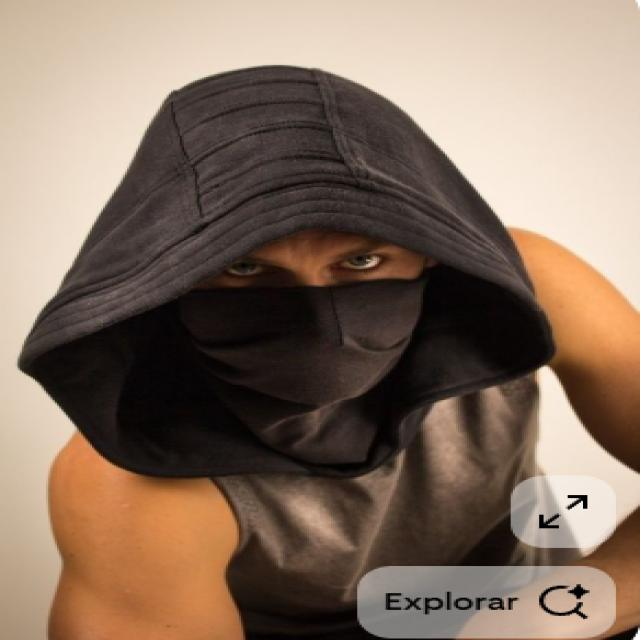4_capucha: (16, 62, 552, 480)
